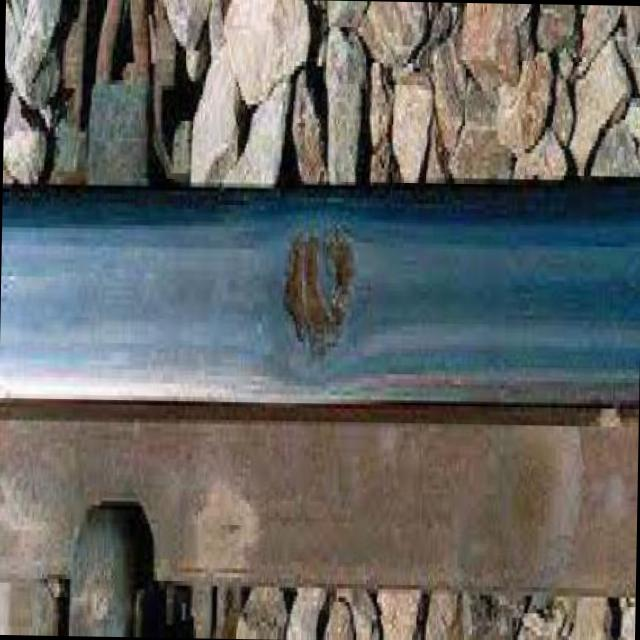defective: (24, 118, 618, 598)
